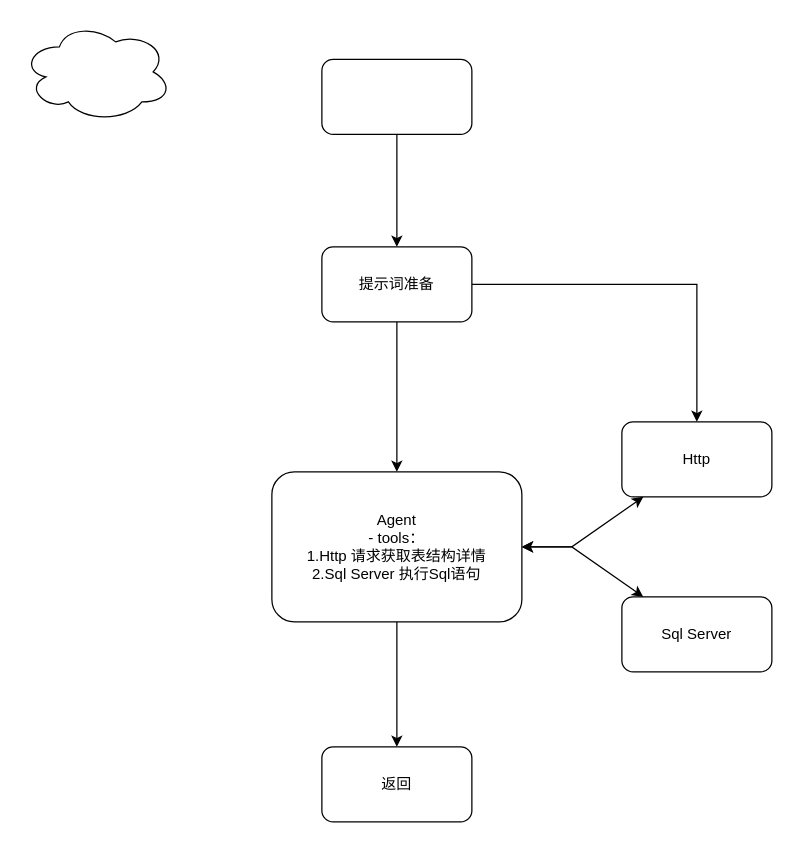
Image size: 794x844. Some labels were removed from this diagram. The shapes that lost their labels are listed below. From the top down, each one's centre as x and y in pixels, then its label:
At point 96,71: "Text2Sql".
At point 396,96: "开始".
